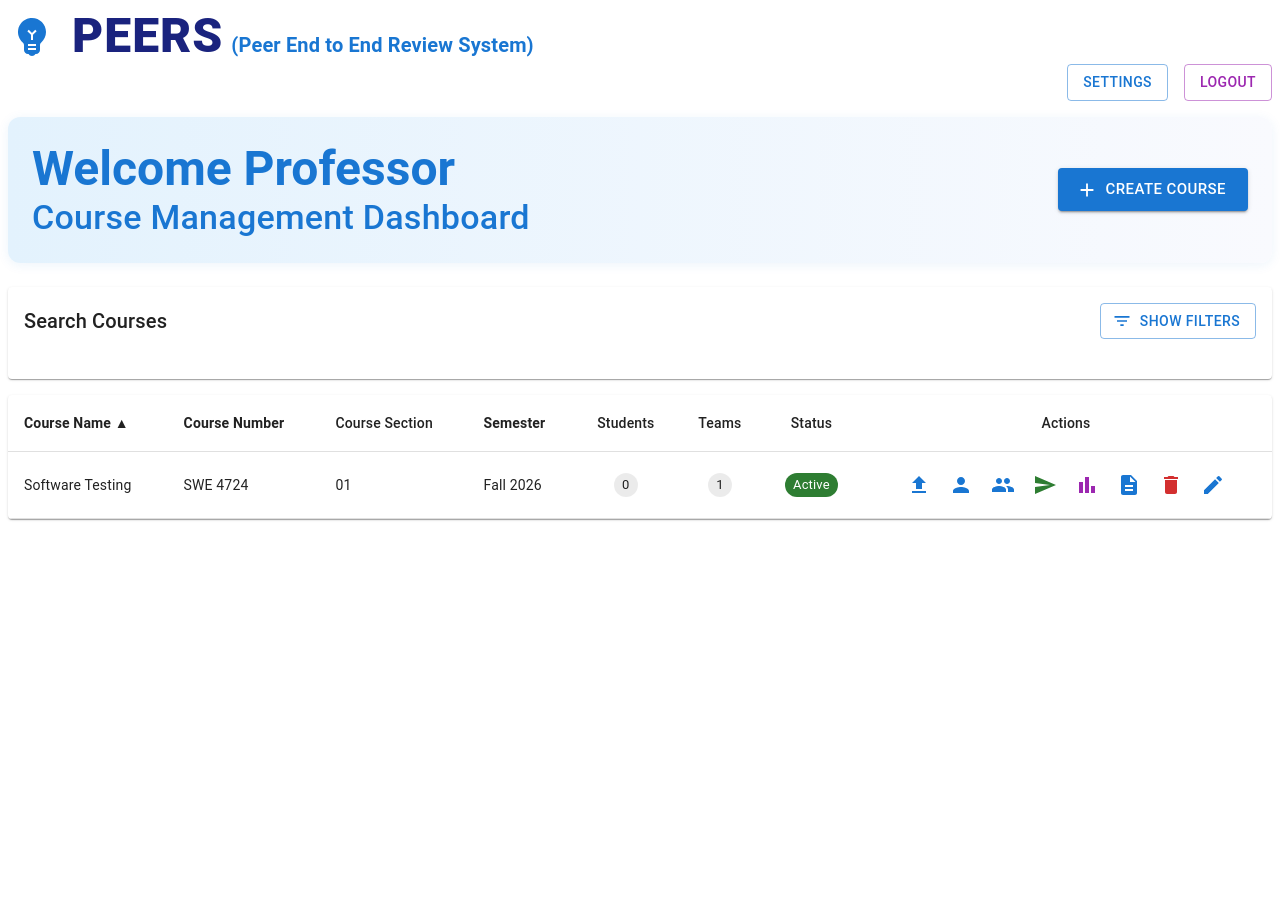
it: CourseManagement reset sequencing › waits for reset success before performing the pending remove
Click the button titled "Manage Teams".
click(1003, 485)  # box [986, 468, 1020, 502]
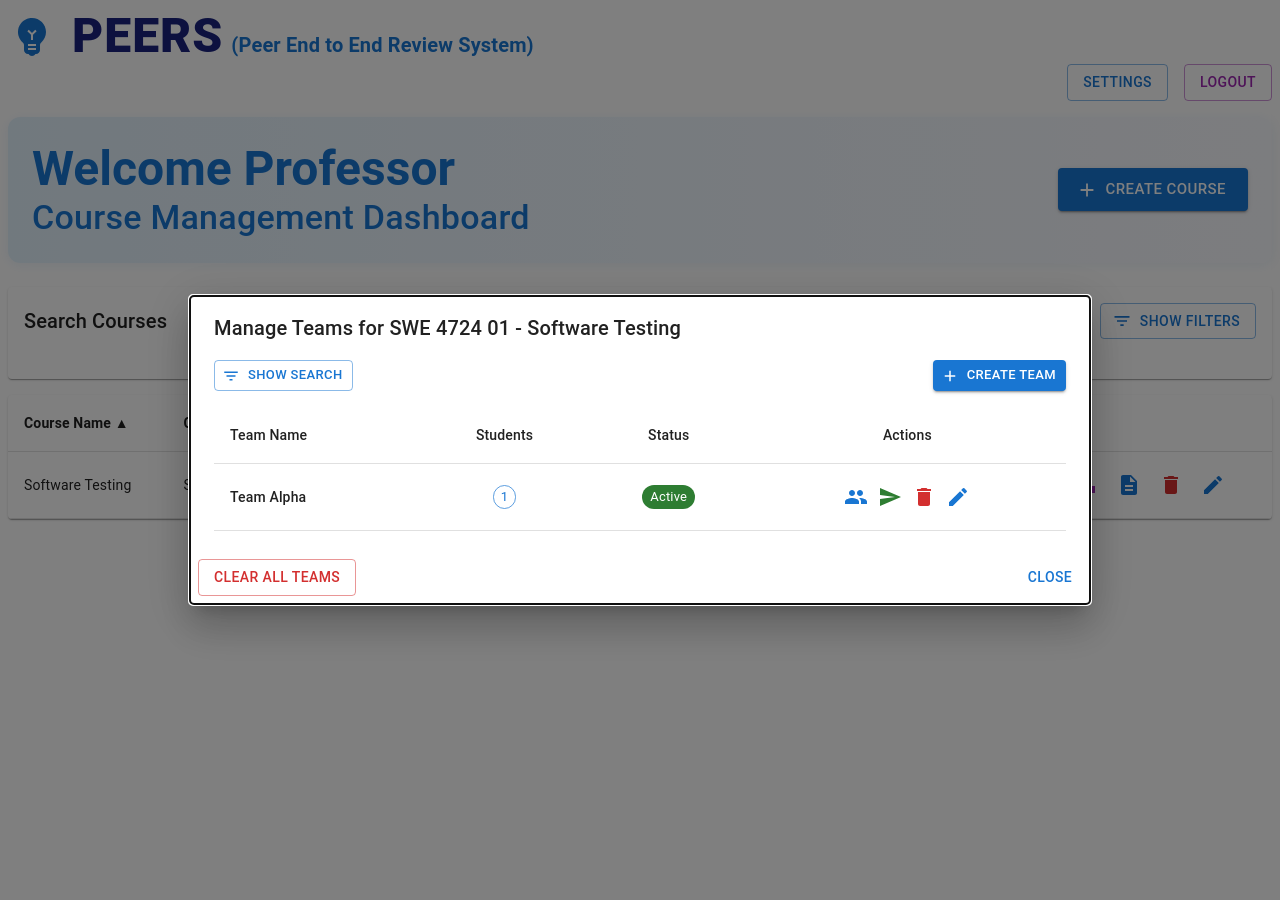
Click the button titled "Manage Students".
click(856, 497)  # box [839, 480, 873, 514]
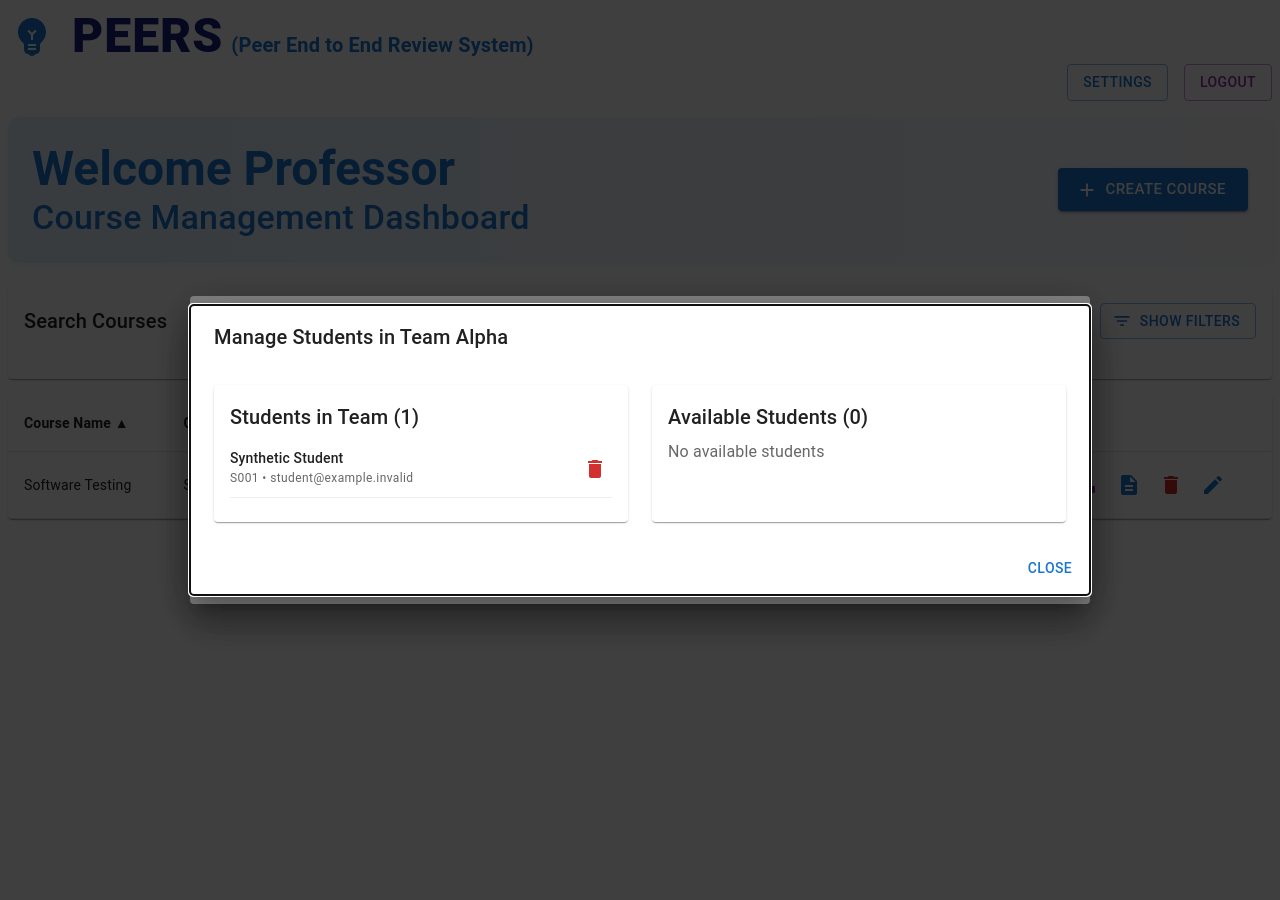
Click the button titled "Remove from team".
click(595, 469)  # box [578, 452, 612, 486]
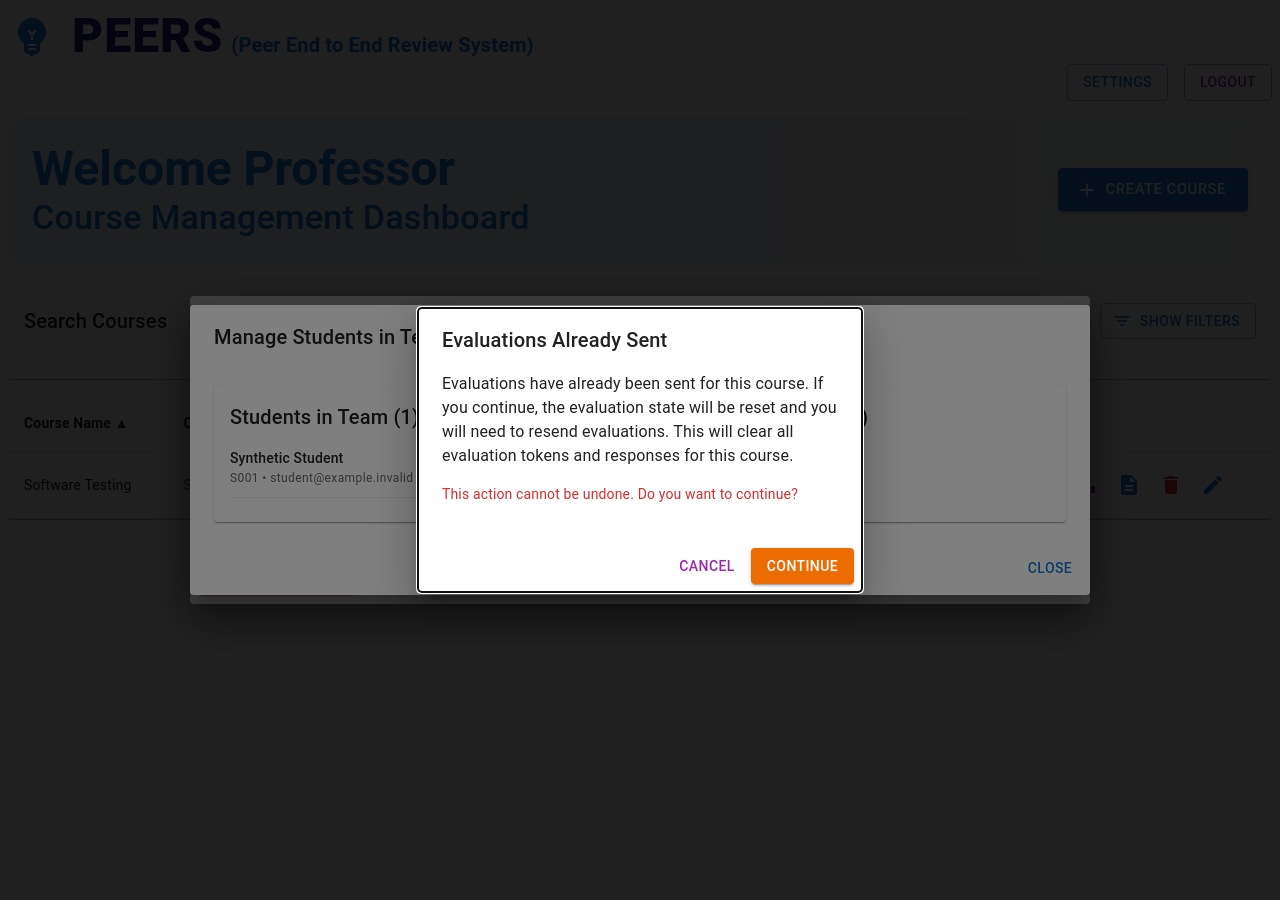
Click the button "Continue".
click(802, 566)  # box [751, 548, 854, 584]
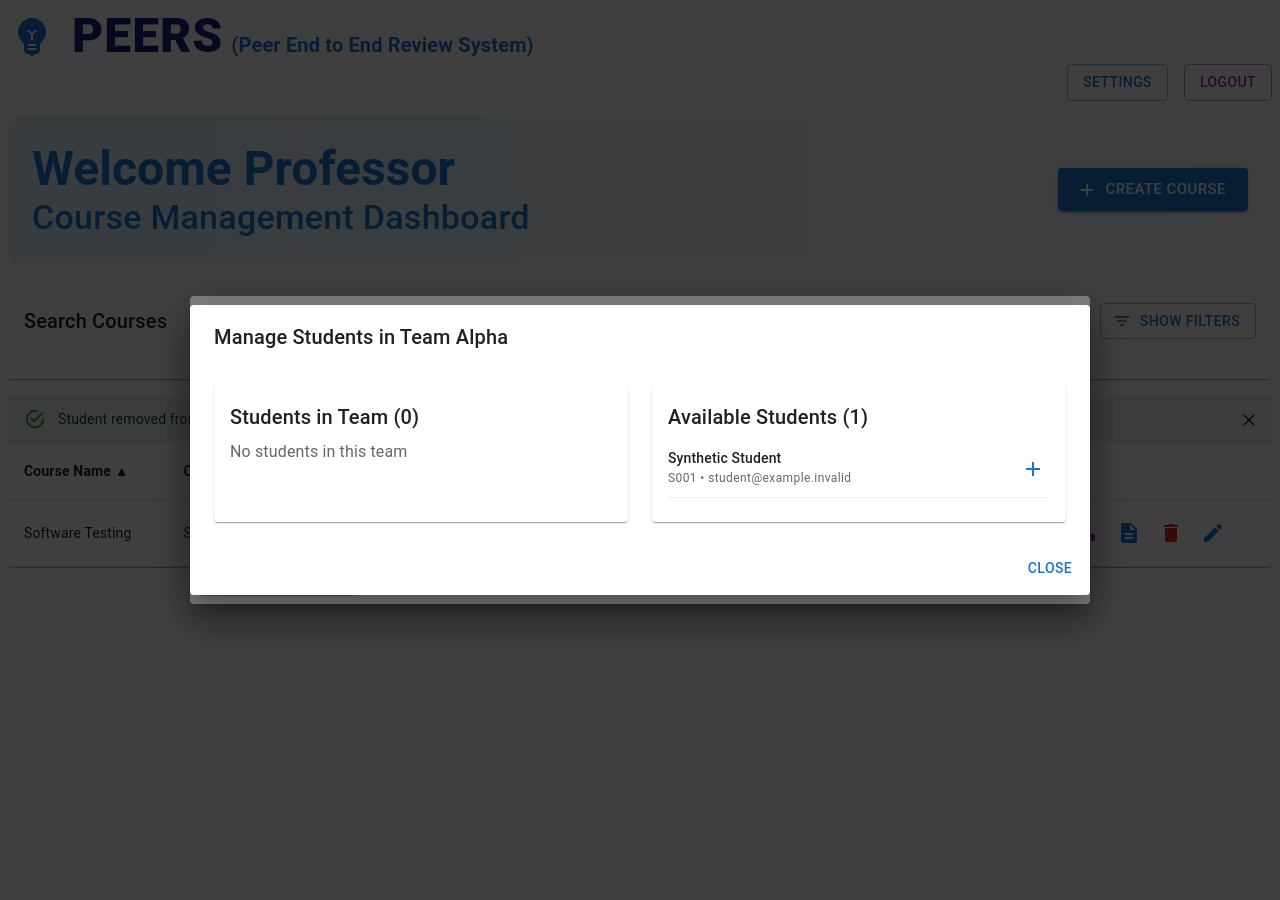
Check: the heading "Students in Team (0)" is shown, box [230, 405, 419, 429]
